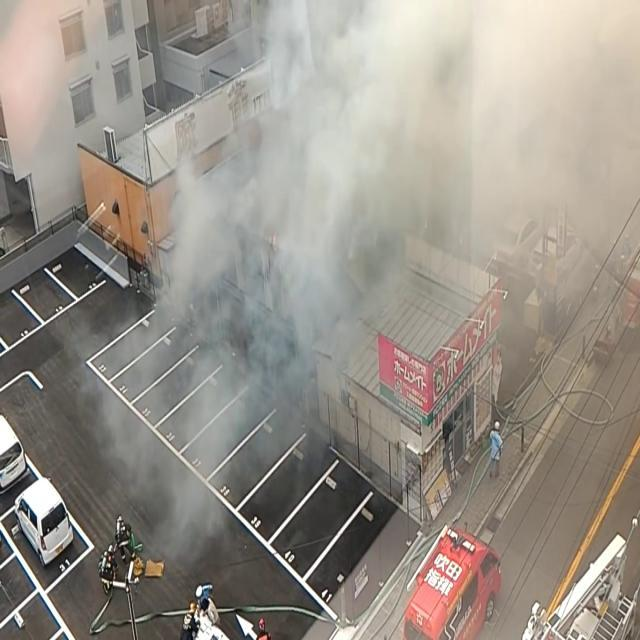Smoke: (146, 0, 638, 428)
